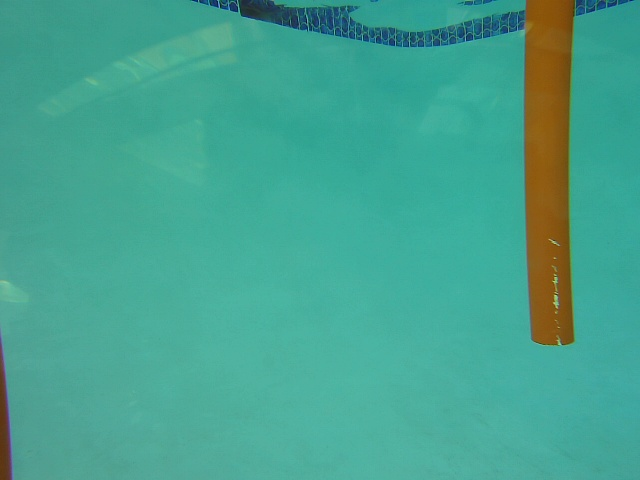Gate: (1, 1, 640, 477)
